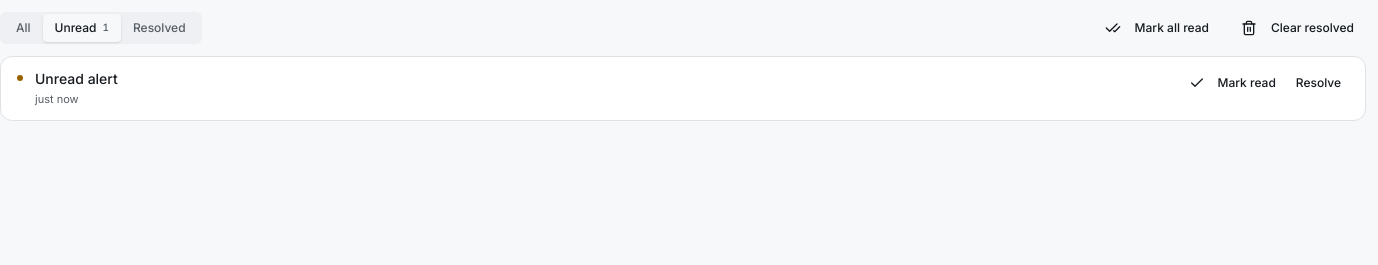
Test: NotificationsList › clears resolved rows from the toolbar
Click the tab "All" at (23, 28), box [4, 14, 43, 42]
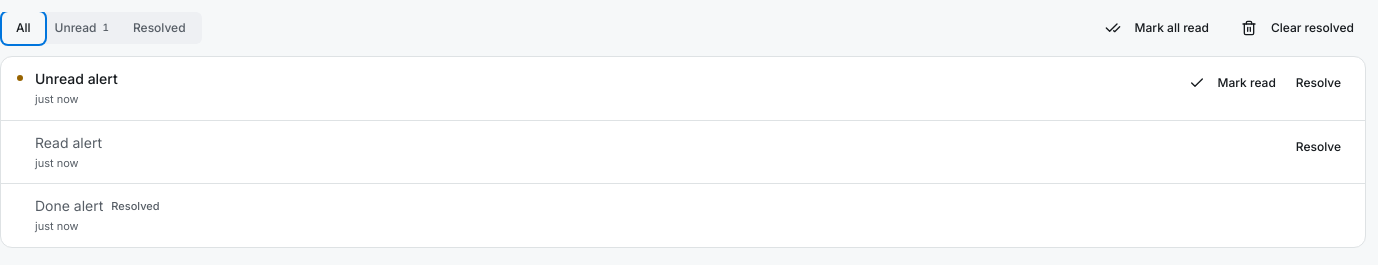
Click the button "Clear resolved" at (1297, 28), box [1229, 12, 1366, 44]
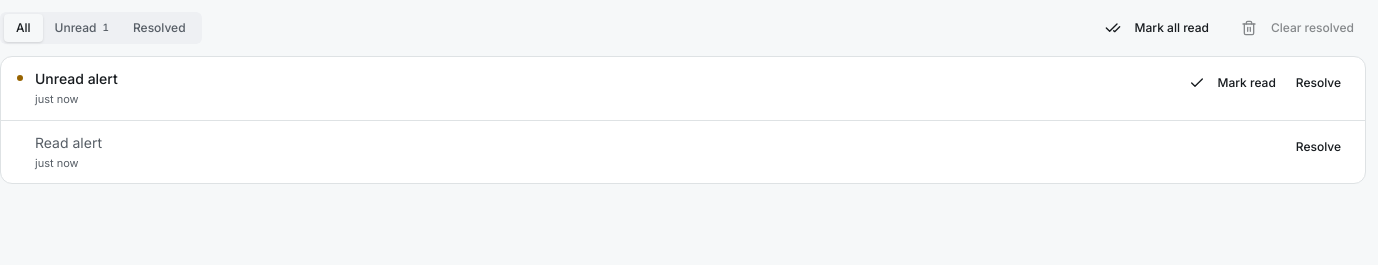
Check: the text "Done alert" is gone
